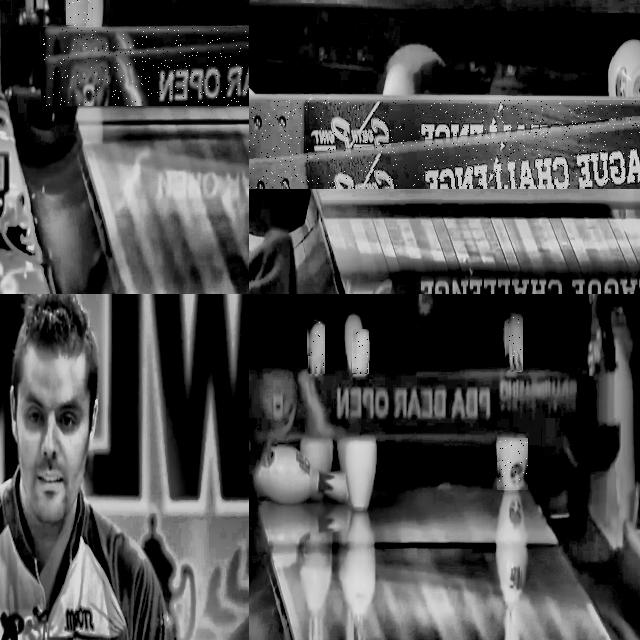bowling-pins: (499, 439, 528, 489), (508, 315, 522, 370), (310, 321, 324, 374), (355, 329, 369, 374)
sweep board: (249, 368, 620, 473), (249, 119, 640, 188), (43, 39, 249, 106)
